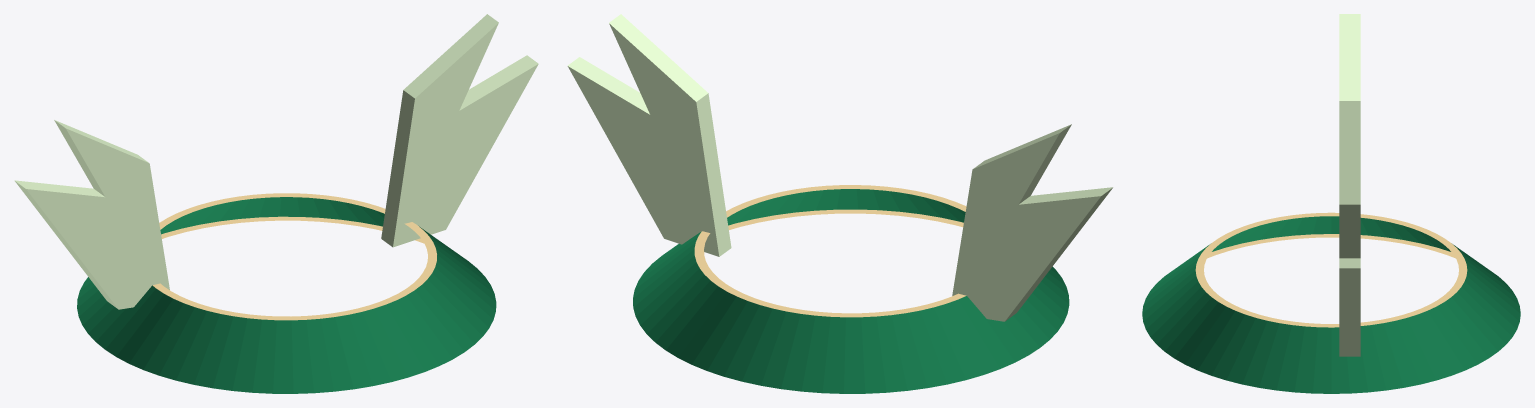
File: copy_band_wind.obj
The picture shows the model from 3 angles, left to right: view 1: azimuth 30°, elevation 25°; view 2: azimuth 150°, elevation 25°; view 3: azimuth 270°, elevation 25°; orthographic projection. The views are drawn at different scales.
Visible parts, largest first — view 1: copy_band_wind; view 2: copy_band_wind; view 3: copy_band_wind.
Part boxes in pixels (x1,y1,x2,y2): copy_band_wind: (14, 14, 538, 393); copy_band_wind: (567, 14, 1112, 393); copy_band_wind: (1142, 14, 1520, 393).
Bounding box in the file's own units: 1.16 × 0.49 × 0.8218.
